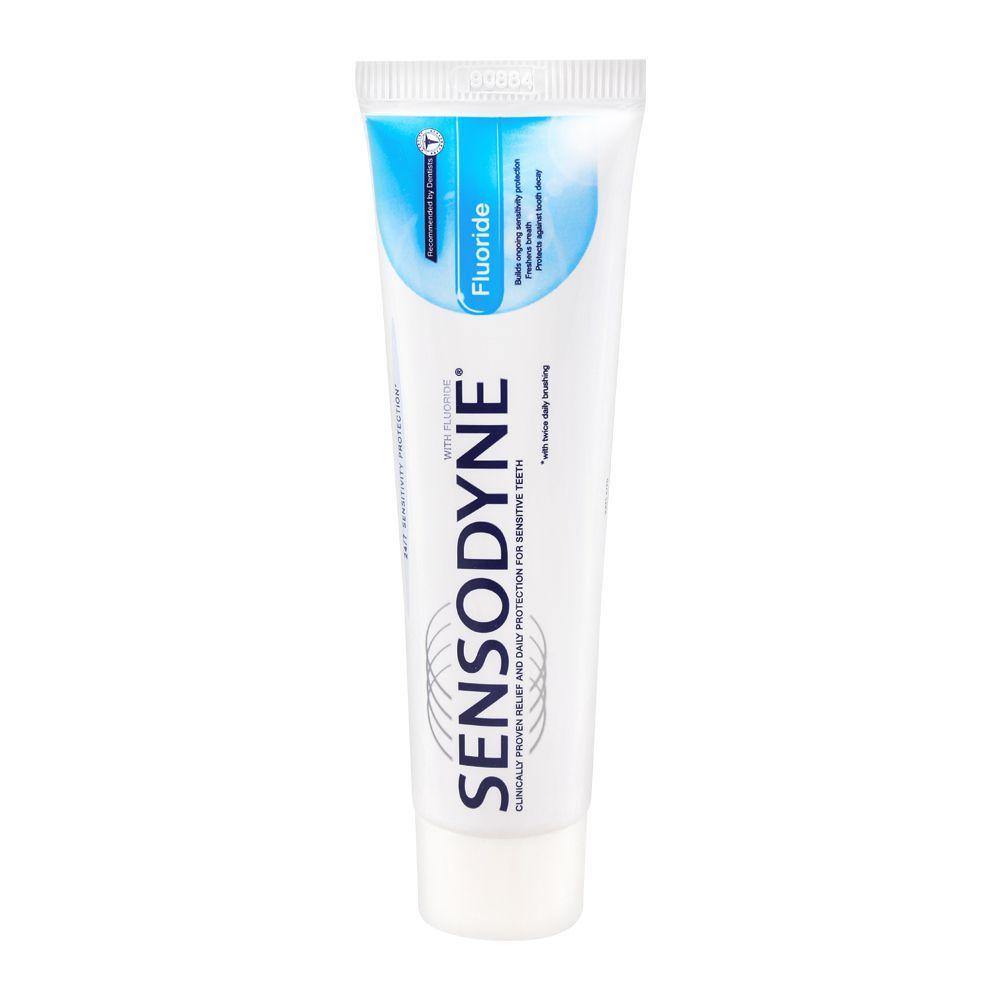toothpaste: (337, 47, 683, 957)
